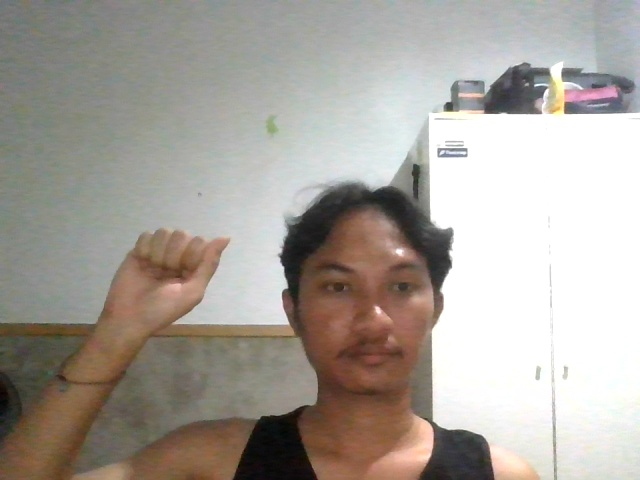a: (81, 197, 243, 351)
